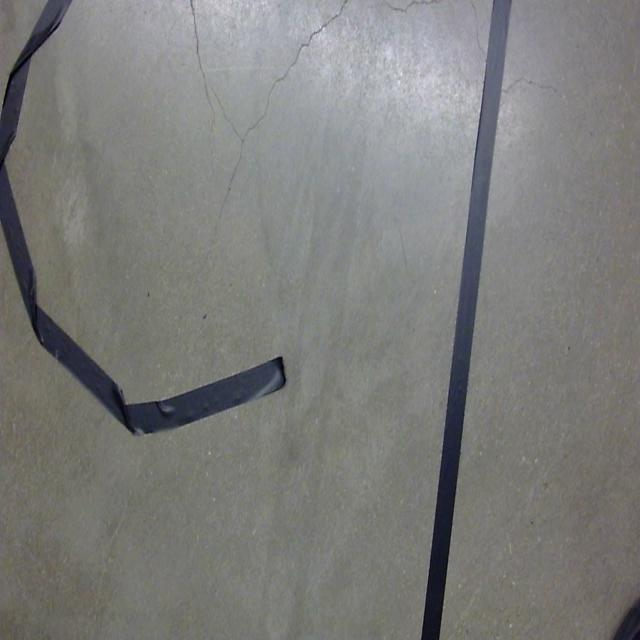tape: (402, 0, 526, 640)
